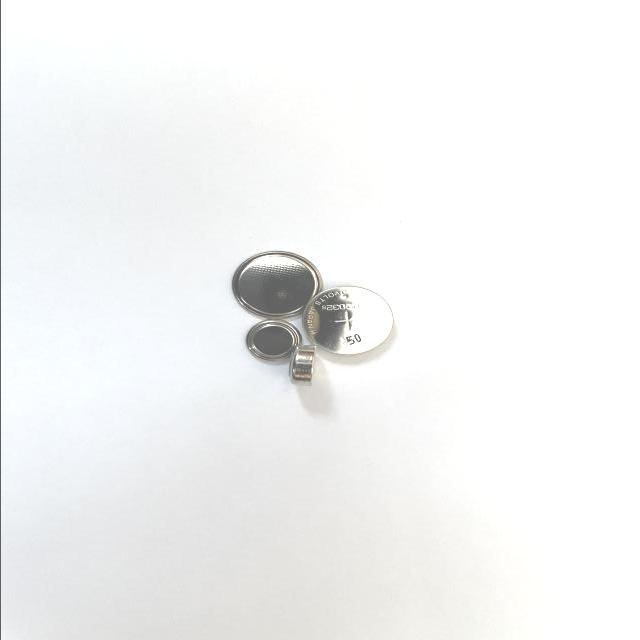COIN: (298, 286, 398, 356), (227, 248, 324, 320), (243, 318, 304, 362), (282, 342, 319, 388)
